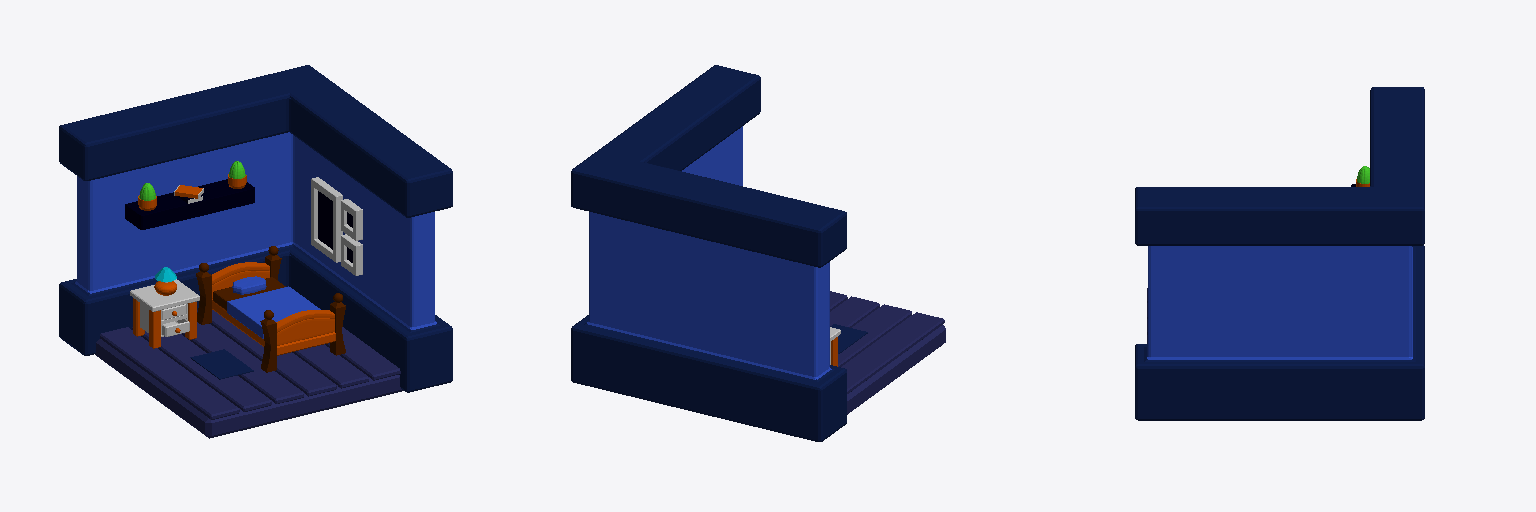
Rendered from IsometricRoom.obj.
3 views of the same model, side by side, from view 1: azimuth 30°, elevation 25°; view 2: azimuth 150°, elevation 25°; view 3: azimuth 270°, elevation 25° (orthographic).
Parts seen in each view (by area): view 1: Cube, Plane.001, Plane, Cube.001, Cube.002, Plane.004, Plane.003, Plane.006, Plane.008, Plane.009, Plane.011, Plane.002 (+1 smaller); view 2: Cube, Plane.001, Plane; view 3: Cube.
Part boxes in pixels (x1,y1,x2,y2): Cube: (59,65,452,392); Plane.001: (100,310,400,419); Plane: (95,328,403,438); Cube.001: (311,177,362,275); Cube.002: (125,179,254,229); Plane.004: (196,246,345,372); Plane.003: (212,262,334,345); Plane.006: (227,286,320,338); Plane.008: (130,279,199,336); Plane.009: (133,298,196,348); Plane.011: (190,349,253,379); Plane.002: (212,299,335,355); Cube: (571,65,846,441); Plane.001: (830,291,944,393); Plane: (833,301,945,414); Cube: (1135,87,1424,420).
Bounding box in the file's own units: 2.47 × 2.04 × 2.47.